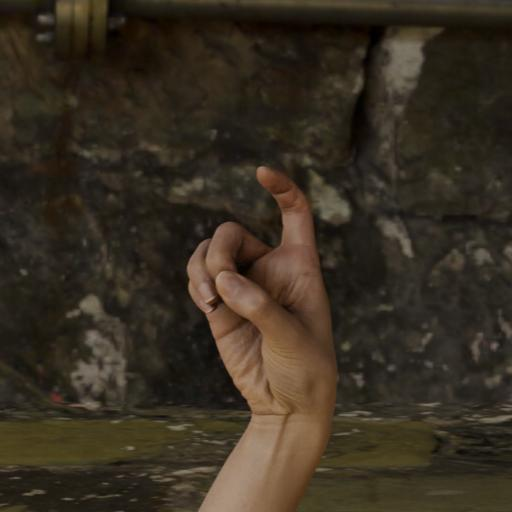X: (158, 148, 338, 512)
